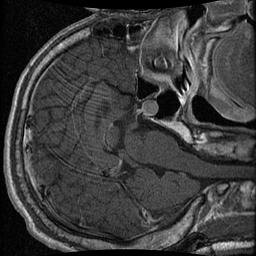pituitary tumour: (141, 99, 159, 116)
